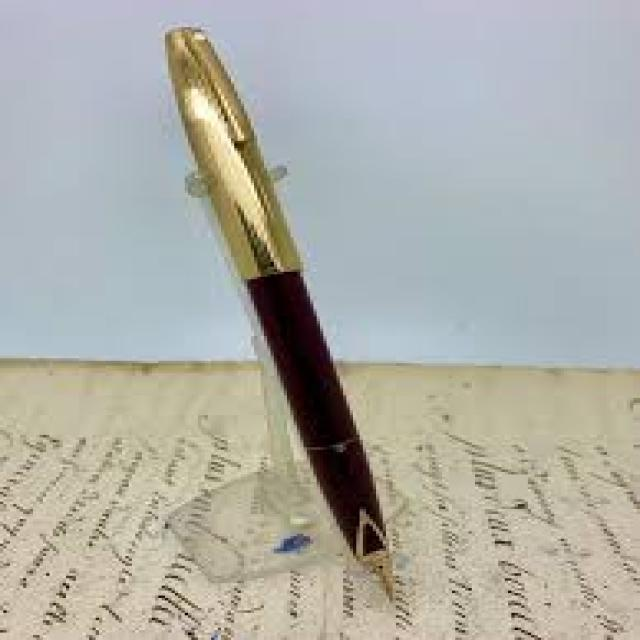Pen - Non Recyclable: (158, 22, 400, 598)
